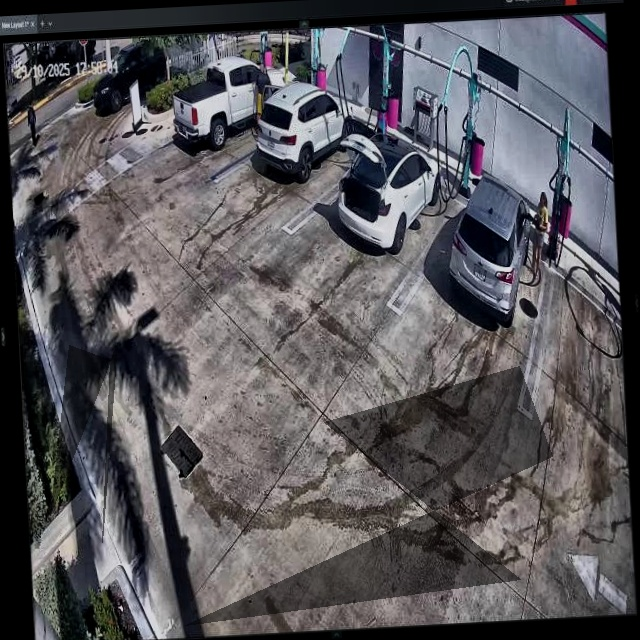Car: (335, 118, 444, 256), (454, 172, 530, 322), (179, 61, 289, 159), (256, 82, 356, 183)
